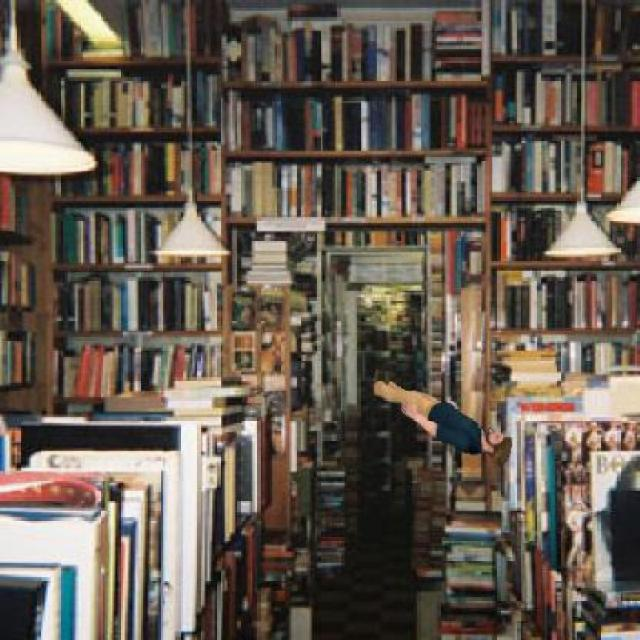Person: (370, 360, 515, 469)
